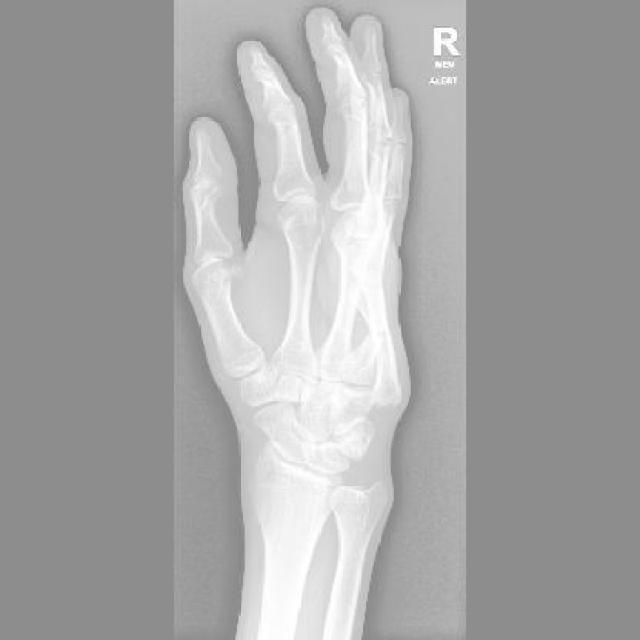Fracture: (363, 322, 388, 342)
